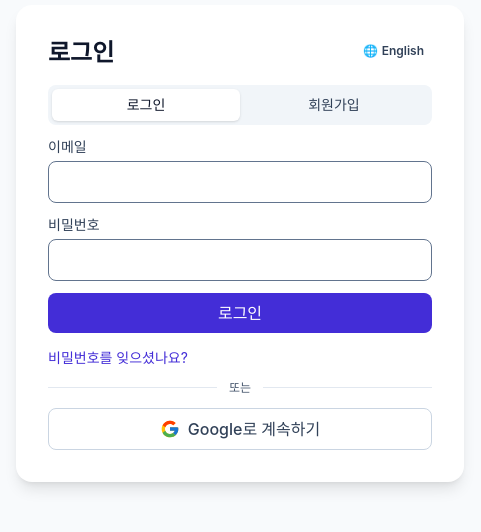
Test case: 이메일 로그인 › 빈 값으로 제출하면 오류를 보여주고 첫 오류 칸에 포커스하며 요청하지 않는다
The width and height of the screenshot is (481, 532).
Click the button "로그인" below "이메일" at (240, 312), box [48,292,432,332]
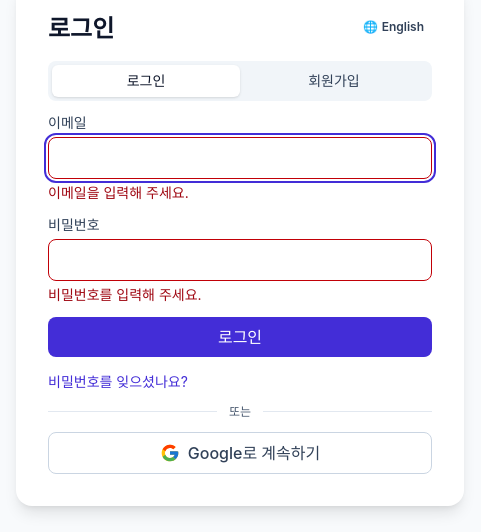
Now the text "이메일을 입력해 주세요." is shown, box [48,184,189,200]
Now the text "비밀번호를 입력해 주세요." is shown, box [48,286,202,302]
